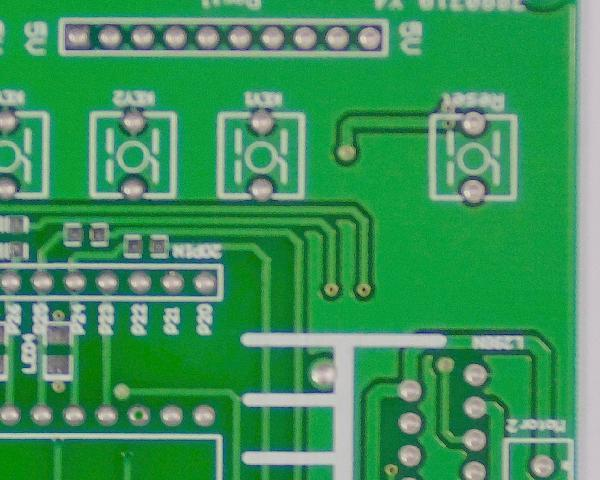missing hole: (124, 401, 153, 427)
